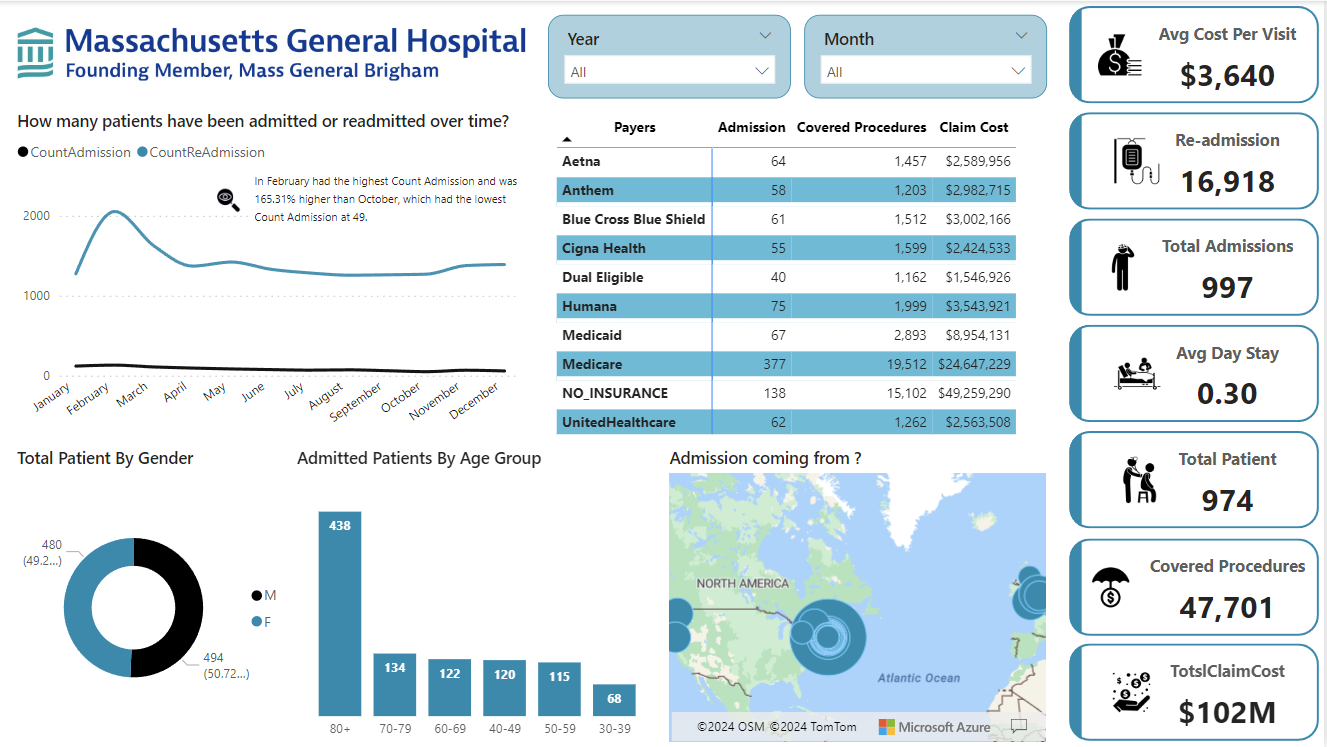

Layout of this report page (visuals, bound fields, positions):
{"tool":"powerbi","page":{"name":"Page 1","canvas":[1280,720],"ordinal":0},"visuals":[{"type":"cardVisual","fields":{"Data":["Measure Table.TotalPatient"]},"box":[1029.2,410.8,251.1,104.3],"z":0},{"type":"image","box":[13.7,0,500.9,102.9],"z":1000},{"type":"cardVisual","fields":{"Data":["Avg(encounters.Lenght Of Stay)"]},"box":[1029.2,308.1,251.1,104.3],"z":2000},{"type":"cardVisual","fields":{"Data":["Measure Table.CountAdmission"]},"box":[1029.2,205.4,251.1,104.3],"z":3000},{"type":"cardVisual","fields":{"Data":["Measure Table.CountReAdmission"]},"box":[1029.2,102.7,251.1,104.3],"z":4000},{"type":"lineChart","title":"How many patients have been admitted or readmitted over time?","fields":{"Y":["Measure Table.CountAdmission","Measure Table.CountReAdmission"],"Category":["DateTable.Date.Variation.Date Hierarchy.Month"]},"box":[13.3,103.8,495.9,325.8],"z":5000},{"type":"cardVisual","fields":{"Data":["Measure Table.AvgCostPerVisit"]},"box":[1029.2,0,251.1,104.3],"z":6000},{"type":"donutChart","title":"Total Patient By Gender","fields":{"Category":["patients.GENDER"],"Y":["CountNonNull(patients.Id)"]},"box":[13.7,429.5,270.3,290.9],"z":7000},{"type":"azureMap","title":"Admission coming from ?","fields":{"Category":["patients.CITY"],"Size":["Measure Table.CountAdmission"]},"box":[643.6,429.5,373.2,290.9],"z":8000},{"type":"cardVisual","fields":{"Data":["Measure Table.CoveredProcedurs"]},"box":[1029.2,513.4,251.1,104.3],"z":9000},{"type":"cardVisual","fields":{"Data":["Measure Table.TotslClaimCost"]},"box":[1029.2,615.7,251.1,104.3],"z":10000},{"type":"textbox","box":[242.5,158.1,264.8,67.2],"z":10001,"group":"g1"},{"type":"image","box":[202.7,174.6,39.8,34.3],"z":10002,"group":"g1"},{"type":"slicer","fields":{"Values":["DateTable.Date.Variation.Date Hierarchy.Year"]},"box":[530.8,13.7,234.6,81],"z":10003},{"type":"slicer","fields":{"Values":["DateTable.Date.Variation.Date Hierarchy.Month"]},"box":[777.8,13.7,234.6,81],"z":10004},{"type":"group","id":"g1","title":"Group 1","box":[202.7,158.1,305.3,67.6],"z":10005},{"type":"columnChart","title":"Admitted Patients By Age Group","fields":{"Category":["patients.AgeGroup"],"Y":["Measure Table.CountAdmission"]},"box":[284,429.5,359.5,290.9],"z":10006},{"type":"pivotTable","fields":{"Rows":["payers.NAME"],"Values":["Measure Table.CountAdmission","Measure Table.CoveredProcedurs","Measure Table.TotslClaimCost"]},"box":[534.5,103.8,481.4,325.8],"z":10007}]}

Visuals, with their boxes in screenshot pixels (x1, y1, x2, y2), scaled from the page's 1280x720 canvas onto the 1327x747 screenshot:
cardVisual - Measure Table.TotalPatient: l=1067, t=426, r=1326, b=534
image: l=14, t=0, r=533, b=107
cardVisual - Avg(encounters.Lenght Of Stay): l=1067, t=320, r=1326, b=428
cardVisual - Measure Table.CountAdmission: l=1067, t=213, r=1326, b=321
cardVisual - Measure Table.CountReAdmission: l=1067, t=107, r=1326, b=215
"How many patients have been admitted or readmitted over time?" lineChart: l=14, t=108, r=528, b=446
cardVisual - Measure Table.AvgCostPerVisit: l=1067, t=0, r=1326, b=108
"Total Patient By Gender" donutChart: l=14, t=446, r=294, b=746
"Admission coming from ?" azureMap: l=667, t=446, r=1054, b=746
cardVisual - Measure Table.CoveredProcedurs: l=1067, t=533, r=1326, b=641
cardVisual - Measure Table.TotslClaimCost: l=1067, t=639, r=1326, b=746
textbox: l=251, t=164, r=526, b=234
image: l=210, t=181, r=251, b=217
slicer - DateTable.Date.Variation.Date Hierarchy.Year: l=550, t=14, r=794, b=98
slicer - DateTable.Date.Variation.Date Hierarchy.Month: l=806, t=14, r=1050, b=98
"Group 1" group: l=210, t=164, r=527, b=234
"Admitted Patients By Age Group" columnChart: l=294, t=446, r=667, b=746
pivotTable - payers.NAME x Measure Table.CountAdmission: l=554, t=108, r=1053, b=446
